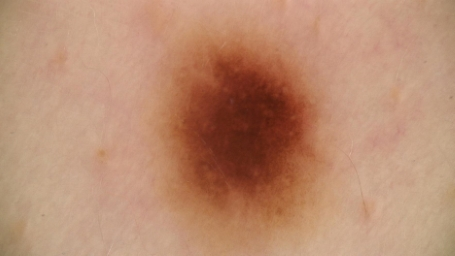melanoma: (174, 47, 307, 231)
